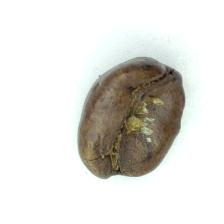NG: (107, 71, 186, 180)
